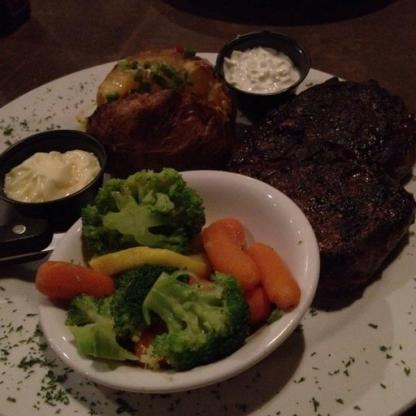broccoli: (142, 272, 240, 363), (104, 169, 204, 252)
yogurt: (7, 141, 99, 202), (223, 40, 299, 96)
